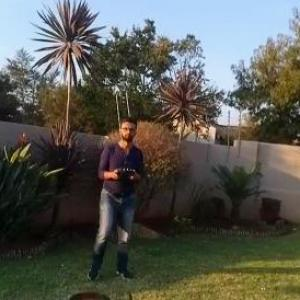follow: (74, 109, 148, 286)
null: (57, 288, 137, 299)
